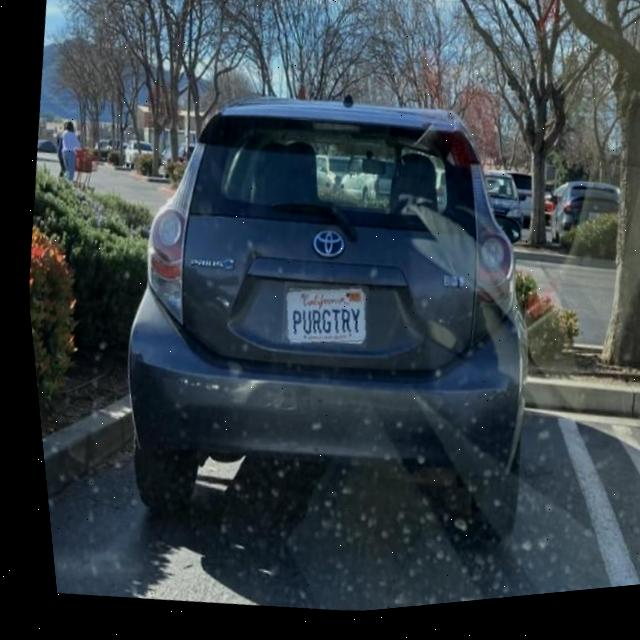LicensePlate: (278, 293, 358, 349)
